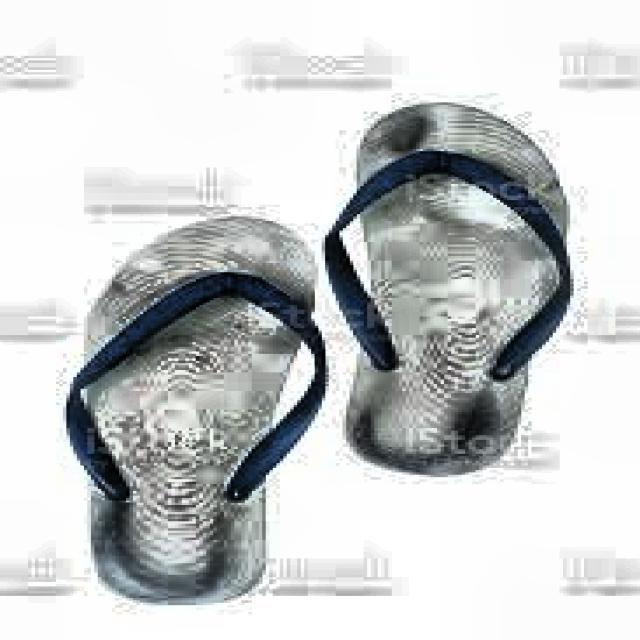shoes: (61, 99, 574, 611)
